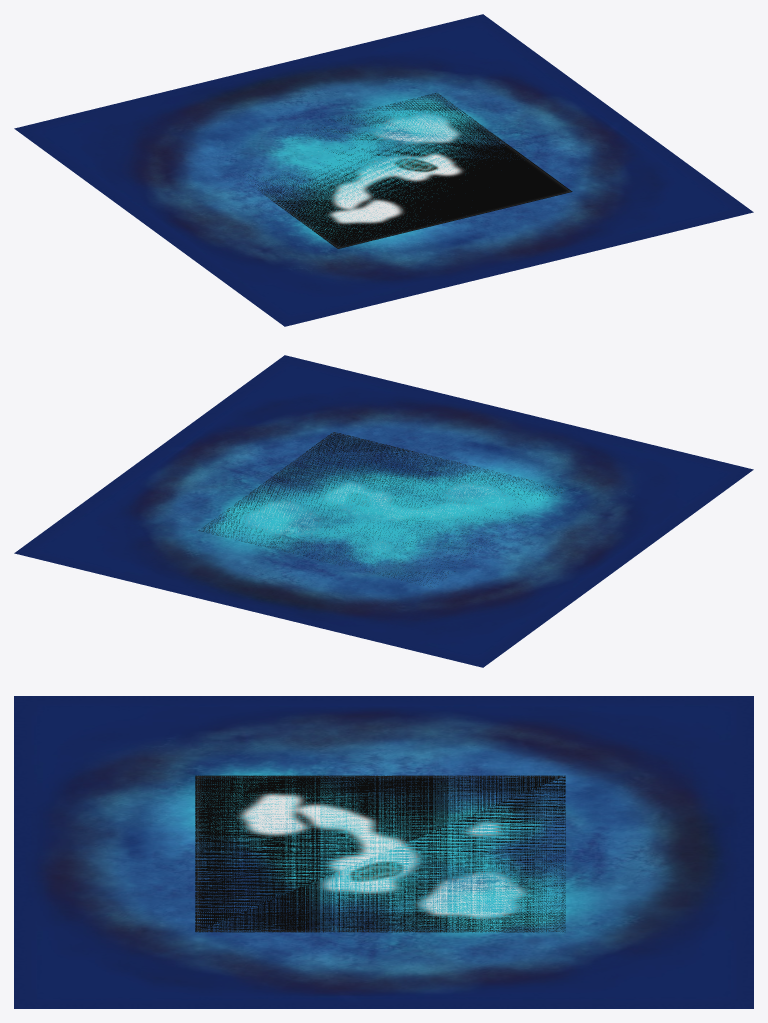
File: pir_m_are_isl_outcast_ocean.fbx
The picture shows the model from 3 angles, top to bottom: view 1: azimuth 30°, elevation 25°; view 2: azimuth 150°, elevation 25°; view 3: azimuth 270°, elevation 25°; orthographic projection. The views are drawn at different scales.
Parts seen in each view (by area): view 1: water_color, water_alpha; view 2: water_color, water_alpha; view 3: water_color, water_alpha.
Part boxes in pixels (x1,y1,x2,y2): water_color: (14, 14, 753, 326); water_alpha: (250, 93, 572, 248); water_color: (14, 355, 753, 667); water_alpha: (198, 432, 562, 585); water_color: (14, 696, 753, 1008); water_alpha: (195, 775, 565, 932).
Size of what is drawn, in the model's own units: 242595 by 0.0395 by 242595.
2 materials, 2 textured.
